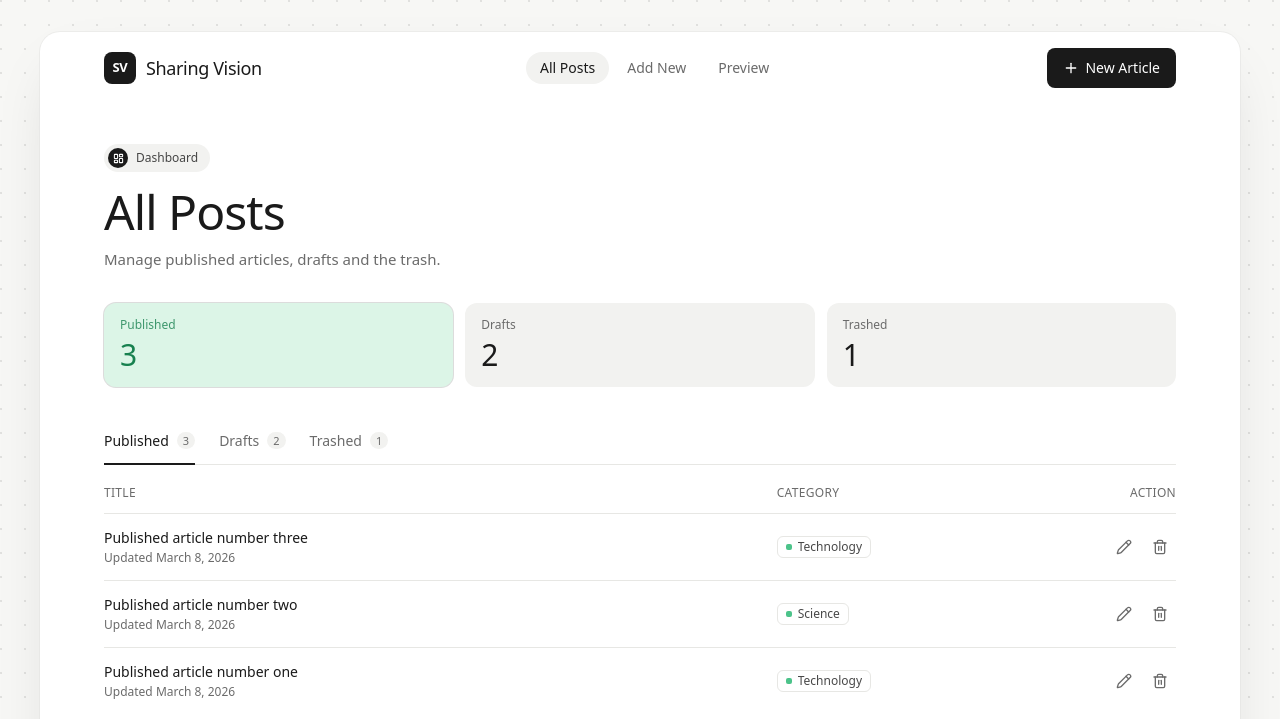
Test: All Posts page › goes to the edit page when the edit icon is clicked
This screenshot has width=1280, height=719.
Click the link named "Edit article" in the row of "Published article number three" at [1124, 546], box [1116, 538, 1132, 554]
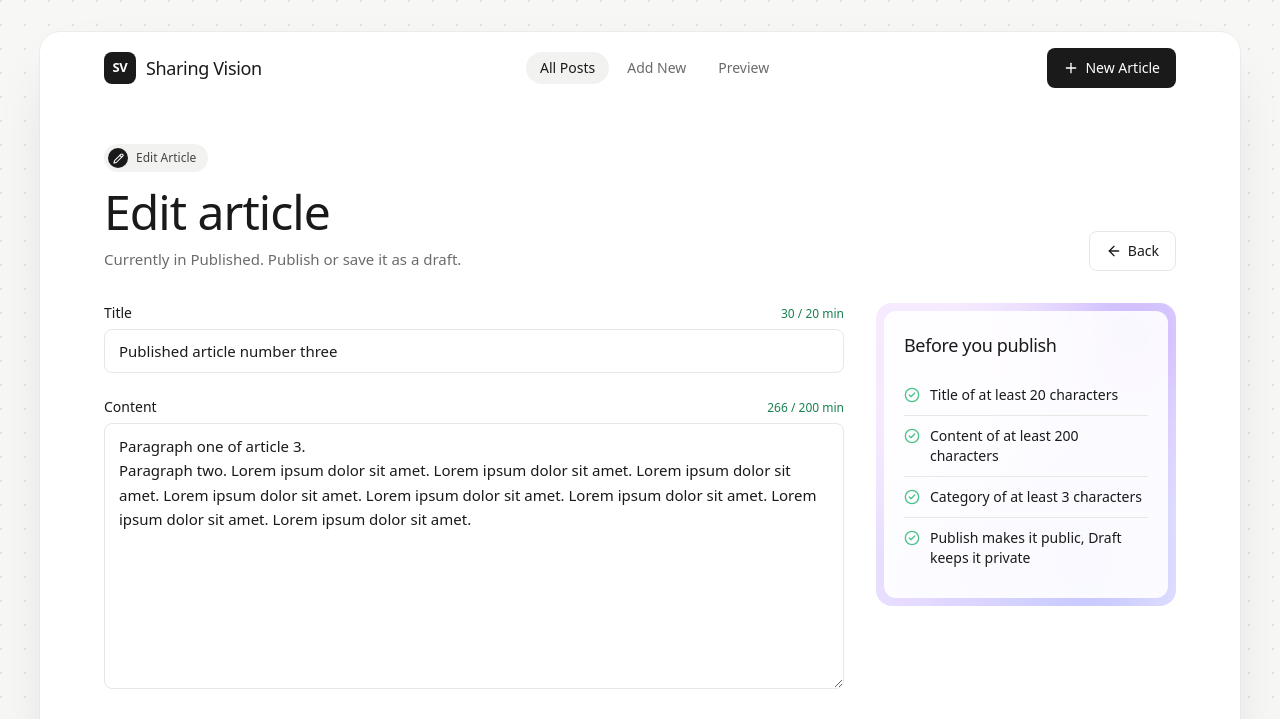
Now the heading "Edit article" is shown, box [104, 179, 330, 244]
